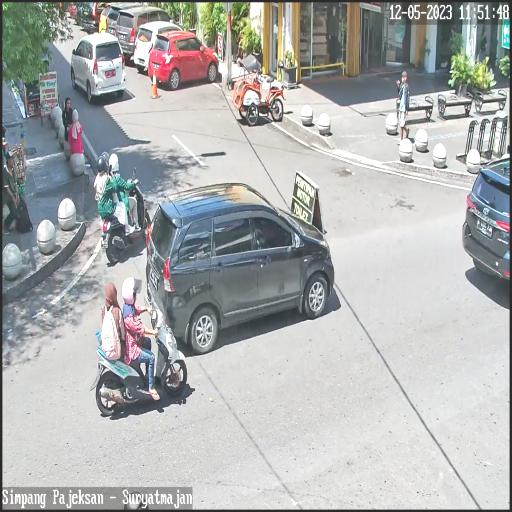mobil: (144, 178, 337, 348), (150, 30, 220, 90), (68, 32, 122, 102), (117, 7, 174, 59), (136, 22, 182, 70)
motor: (89, 302, 187, 422), (87, 174, 153, 260)
